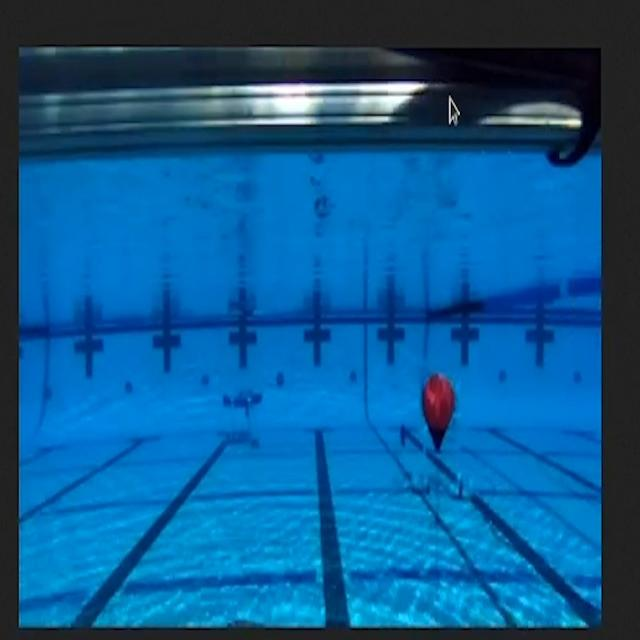Buoy: (419, 376, 460, 454)
